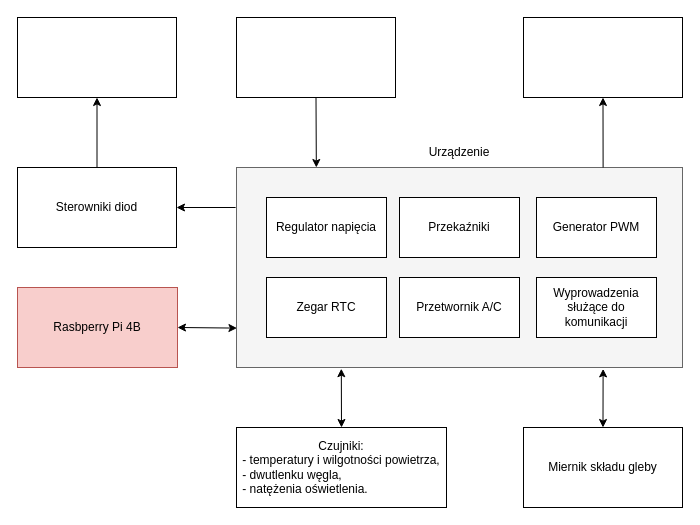
This 700x525 diagram has some shape labels left out. The centre of each missing label's shape, as x and y in pixels:
"Panel LED" belongs at [96,57].
"Pompa wody" belongs at [602,57].
"Zewnętrzny zasilacz" belongs at [316,57].
